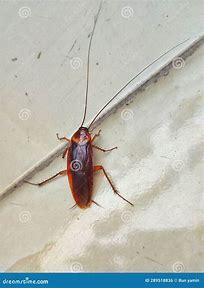cockroach: (26, 0, 190, 217)
